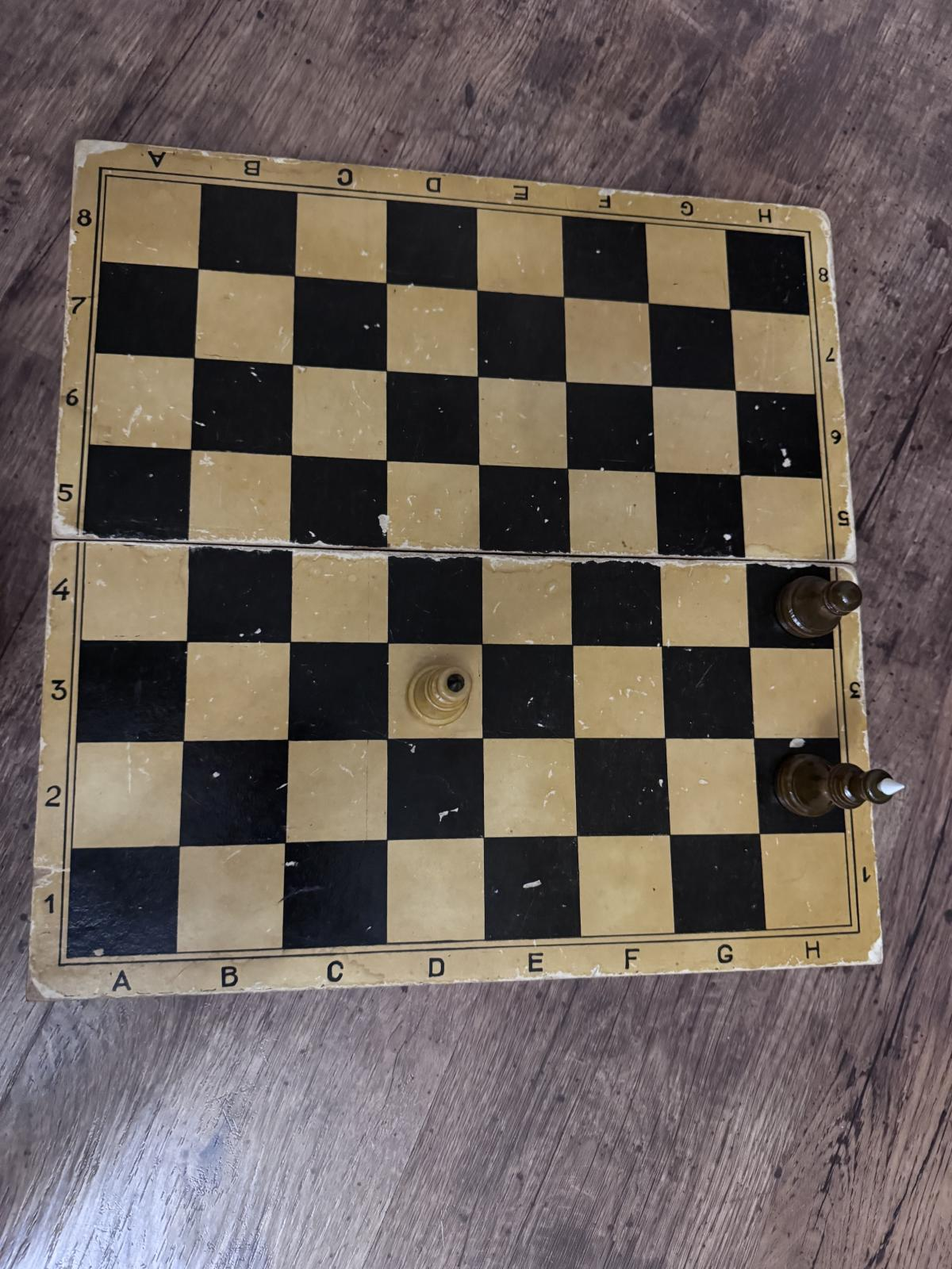Chess-Board: (67, 175, 852, 958)
